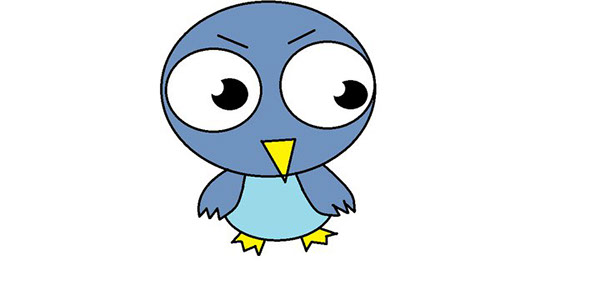bird: (186, 6, 390, 235)
